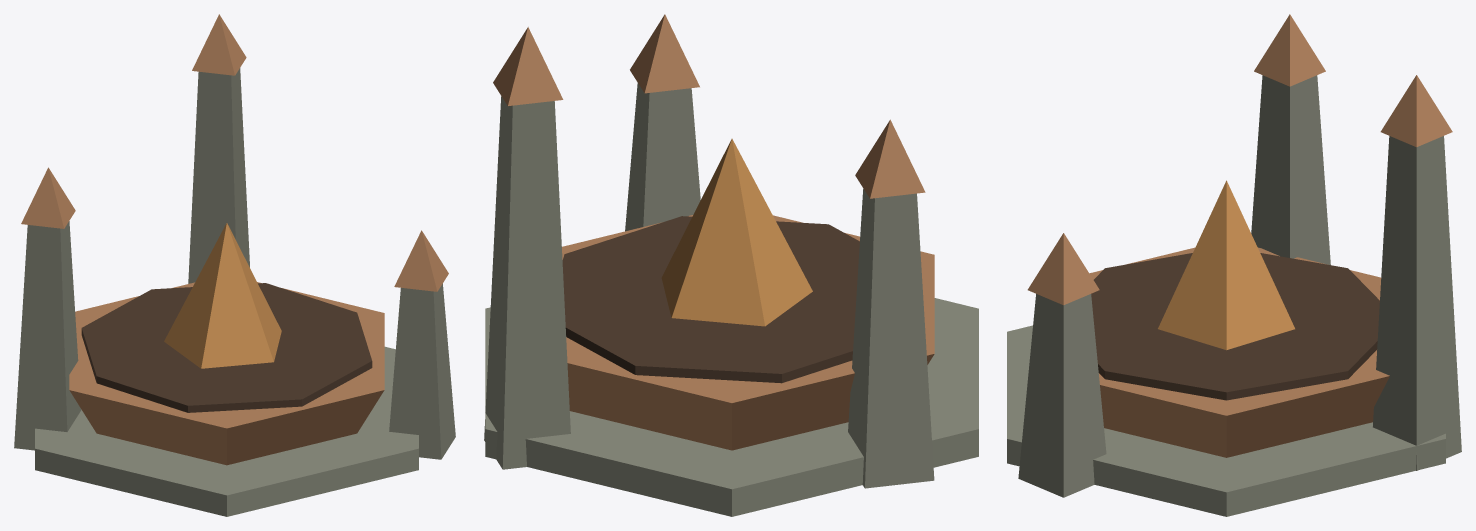
File: emberShrine.glb
The picture shows the model from 3 angles, left to right: view 1: azimuth 30°, elevation 25°; view 2: azimuth 150°, elevation 25°; view 3: azimuth 270°, elevation 25°; orthographic projection. The views are drawn at different scales.
Visible parts, largest first — view 1: Building; view 2: Building; view 3: Building.
Part boxes in pixels (<box>): Building: <box>14,14,455,516</box>; Building: <box>484,14,978,516</box>; Building: <box>1007,14,1461,516</box>.
Size of the model in its own units: 56 by 46 by 50.25.
